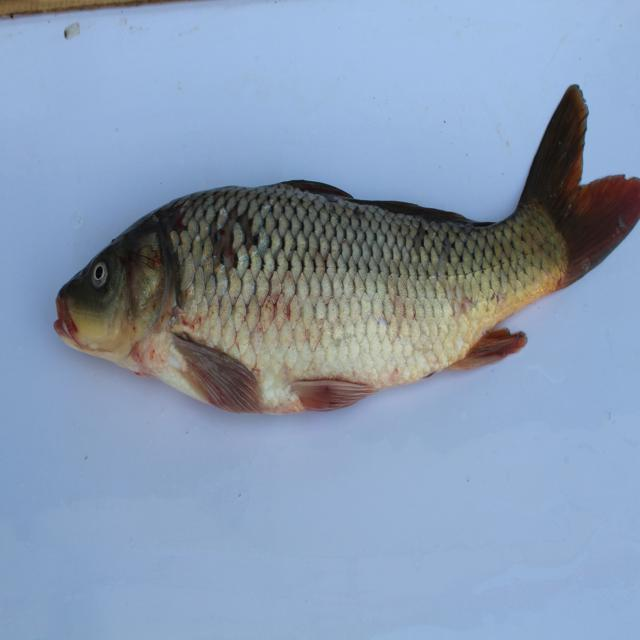CommonCarp: (41, 92, 640, 433)
